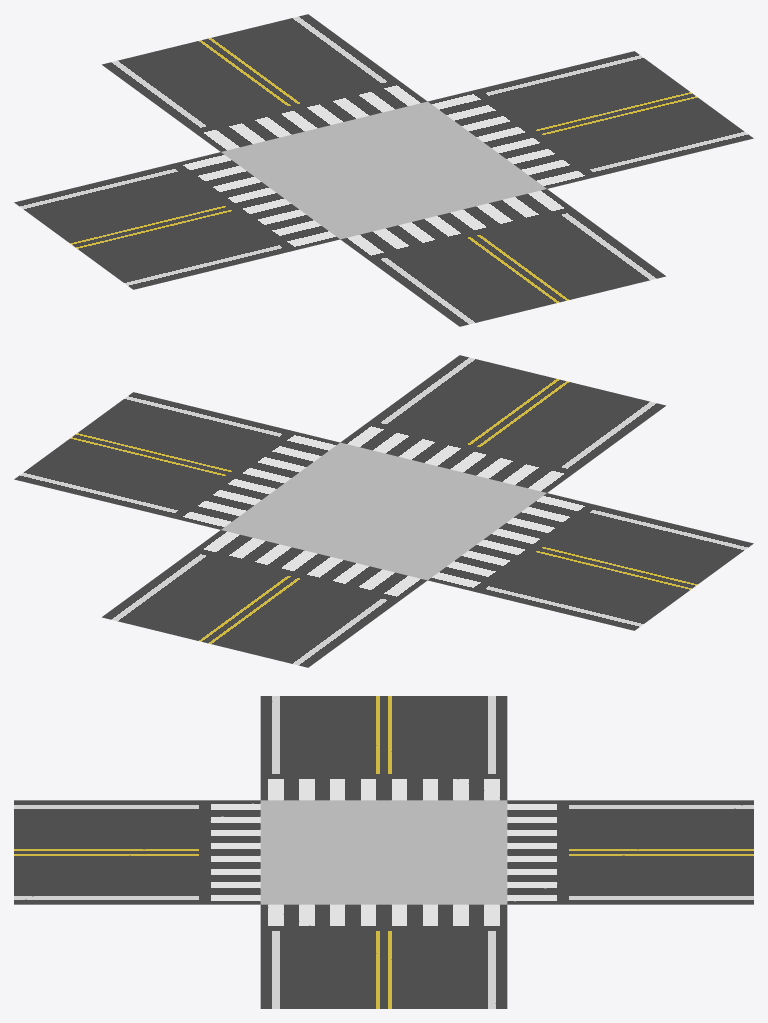
File: Road_Intersection.fbx
3 views of the same model, one above another, from view 1: azimuth 30°, elevation 25°; view 2: azimuth 150°, elevation 25°; view 3: azimuth 270°, elevation 25° (orthographic). The views are drawn at different scales.
Parts seen in each view (by area): view 1: Road_Intersection; view 2: Road_Intersection; view 3: Road_Intersection.
Boxes of the visible parts, x1,y1,x2,y2 form: Road_Intersection: [14, 14, 753, 326]; Road_Intersection: [14, 355, 753, 667]; Road_Intersection: [14, 696, 753, 1008].
Size of the model in its own units: 1200 by 0 by 1200.
